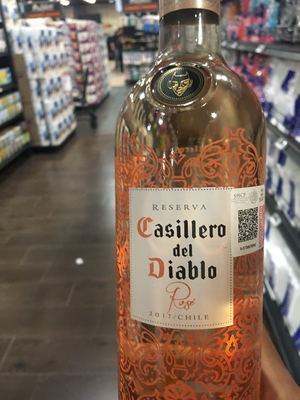casillero del diablo rose: (104, 9, 274, 390)
